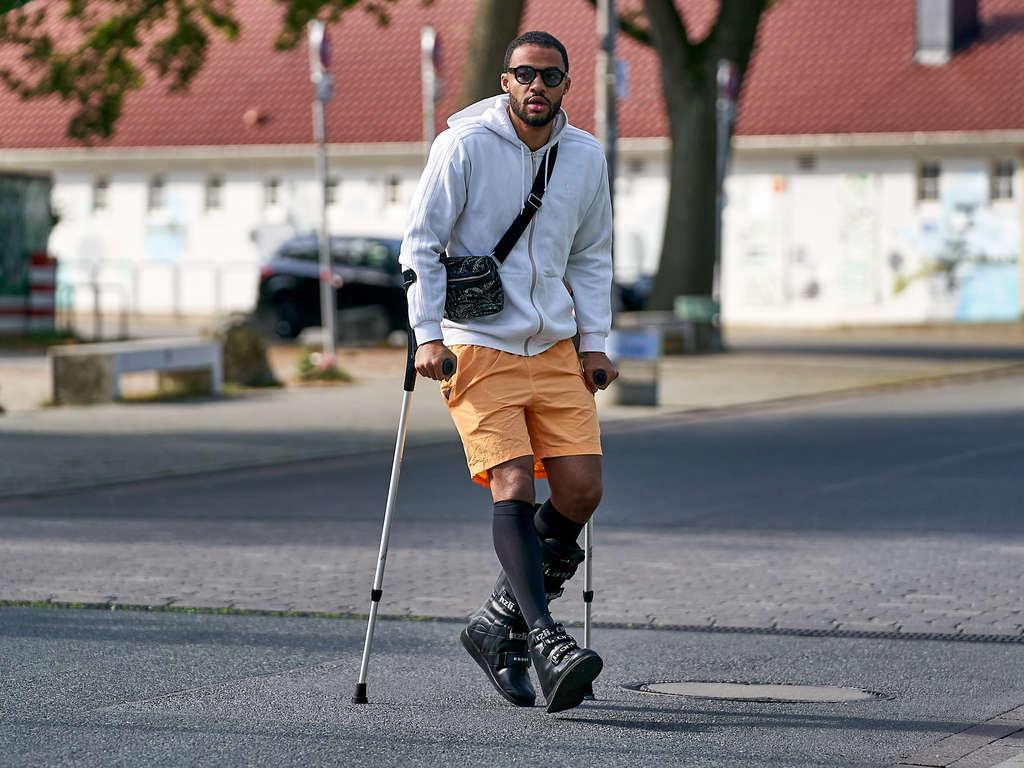crutches: (352, 20, 606, 720)
